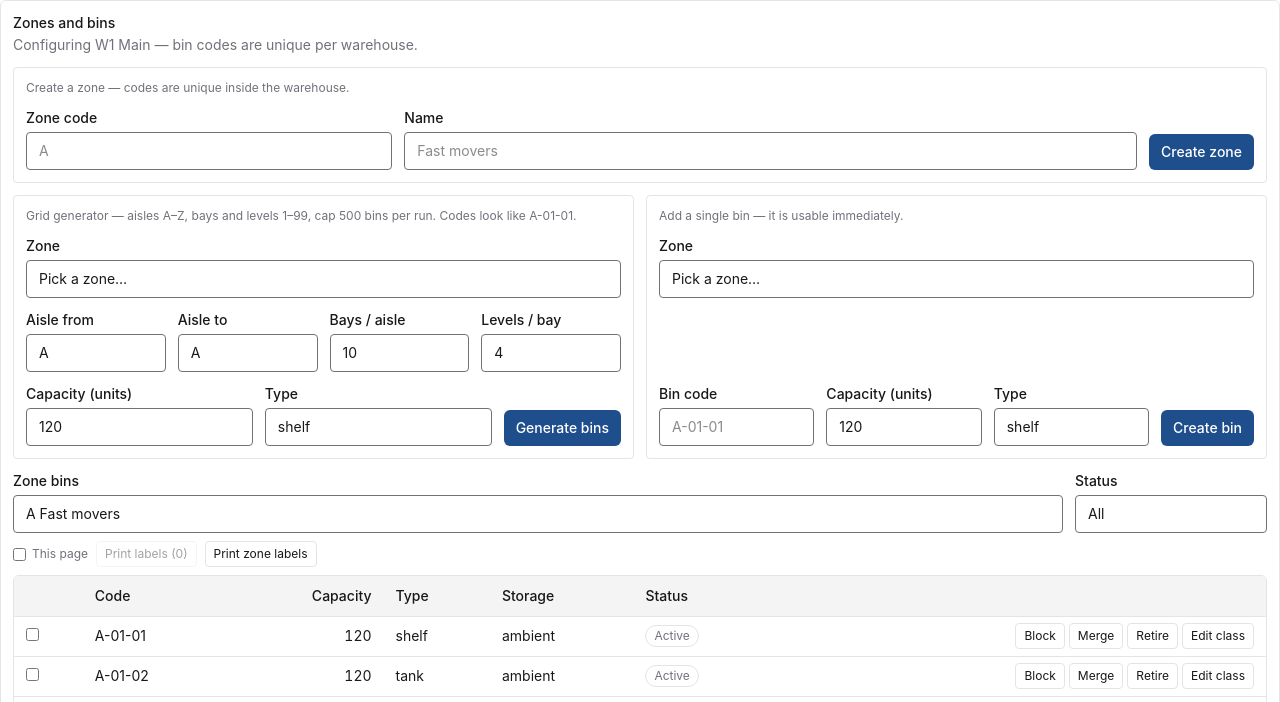
Test: ZonesBinsSetup: the Edit-class gating and reload (triage row 15) › a successful class save reloads the bins list — the table shows the server answer
Click the button "Edit class" in the row of "shelf". click: (1218, 636)
box: [1182, 623, 1254, 649]
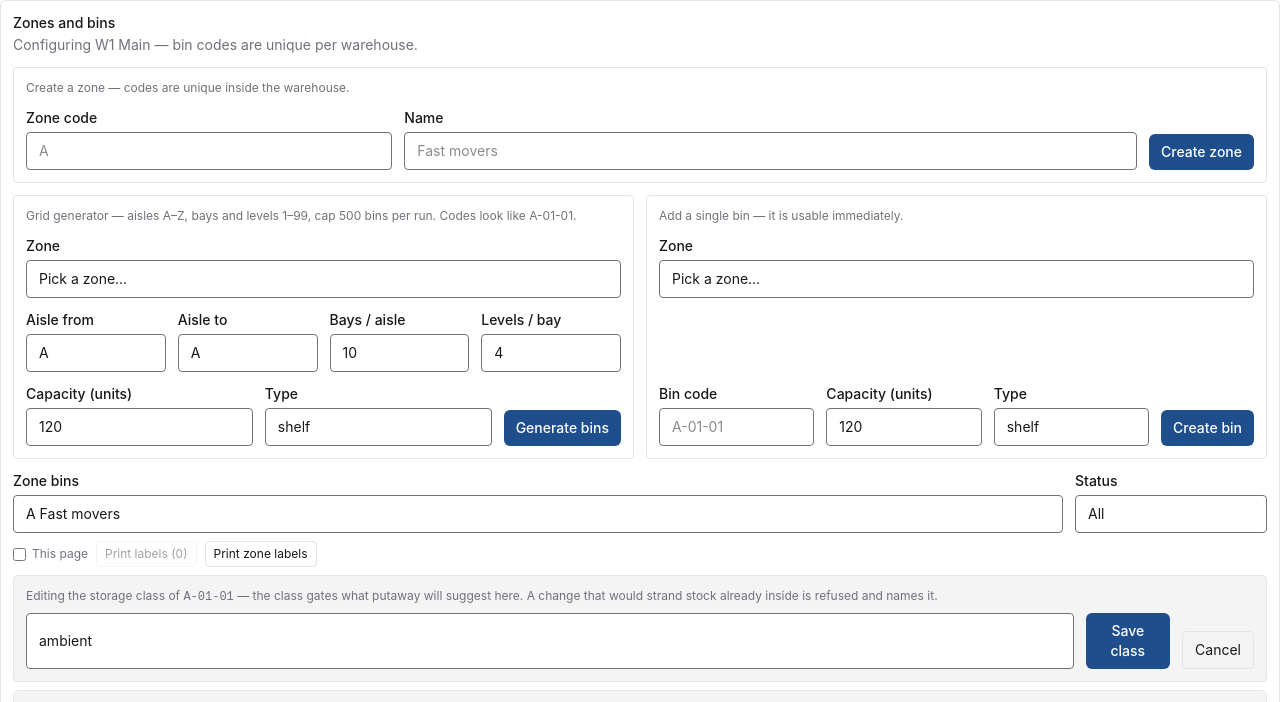
Click the button "Save class". click: (1128, 641)
box: [1086, 613, 1170, 669]
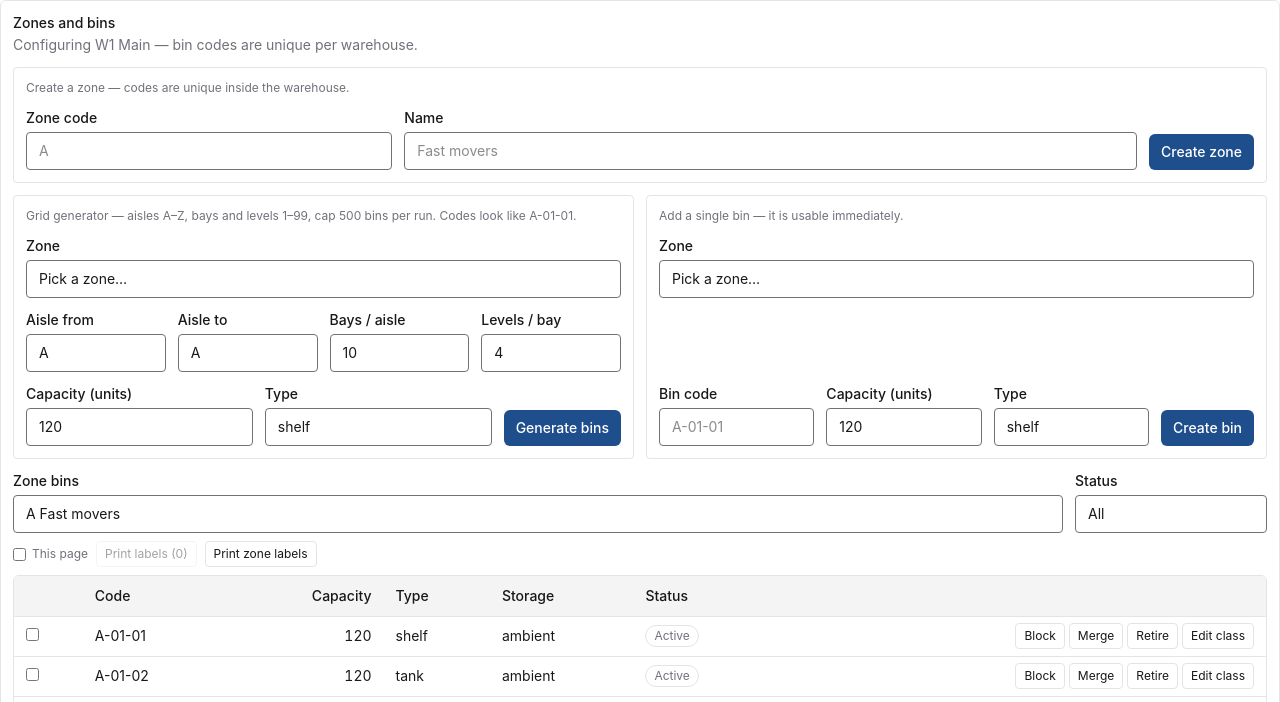
Check: the text "Editing the storage class of" is gone
